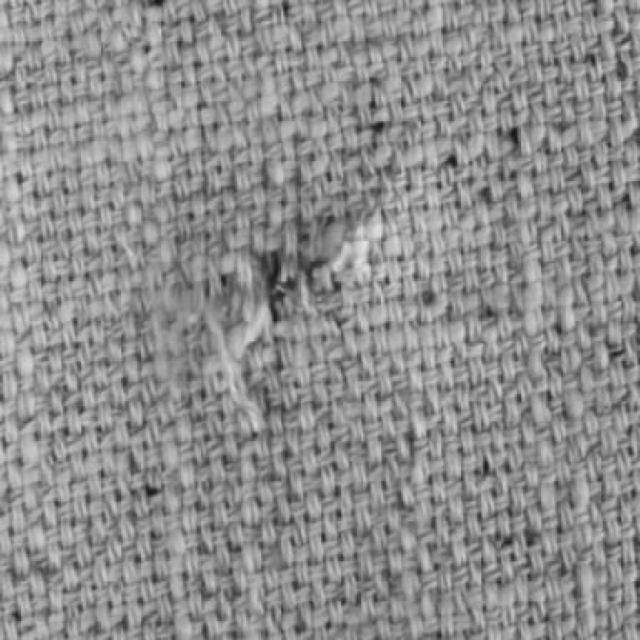other: (198, 230, 387, 330)
